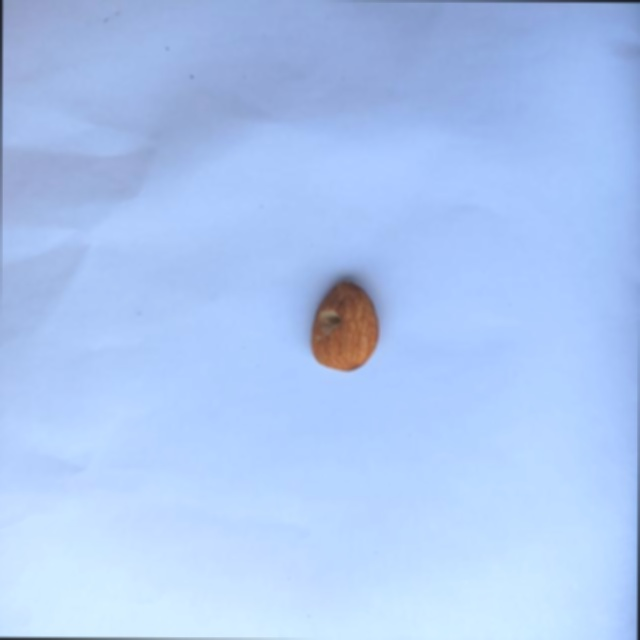grade3: (306, 277, 381, 376)
